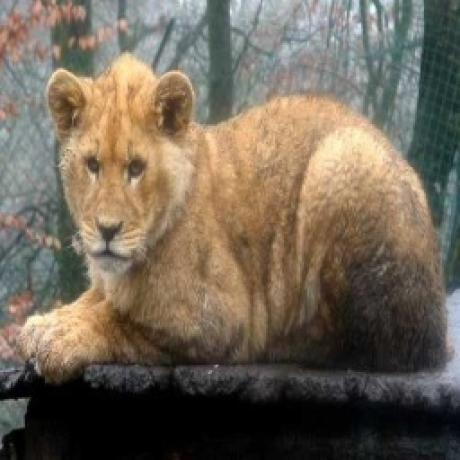Lion: (25, 53, 452, 388)
